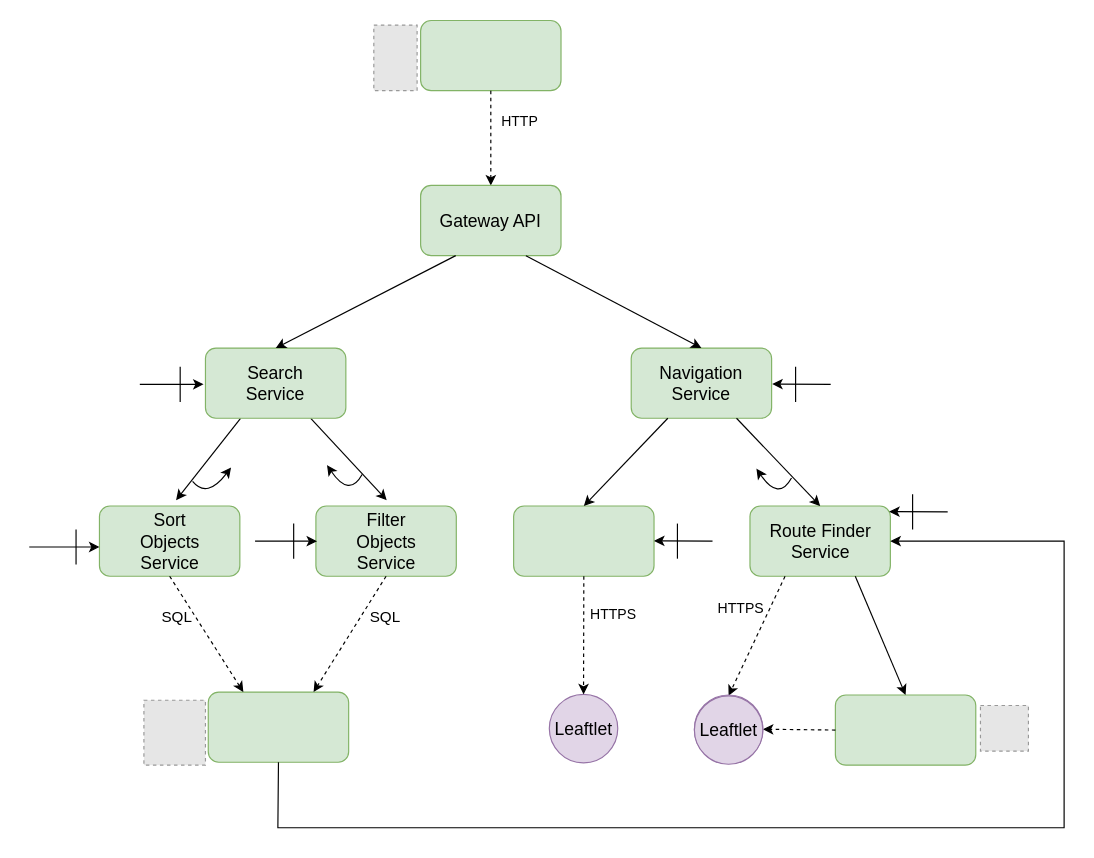
Image size: 1094x858. Some labels were removed from this diagram. Grey dashed boxes stand in for pictures. Each missing label, with the centre of its shape:
AppUI: [490,55]
Frequent Routes Cache: [905,729]
Location Service: [583,540]
Objects Database: [278,726]
